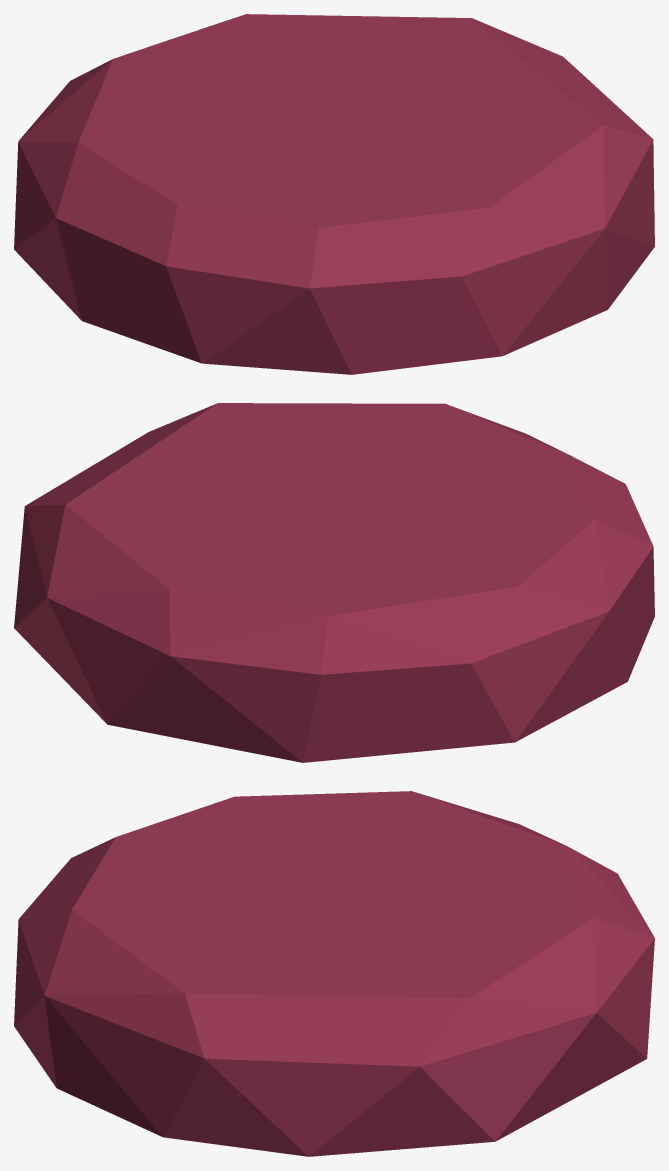
The model's file is Red_Button.fbx.
3 views of the same model, one above another, from view 1: azimuth 30°, elevation 25°; view 2: azimuth 150°, elevation 25°; view 3: azimuth 270°, elevation 25° (orthographic).
Parts seen in each view (by area): view 1: Button; view 2: Button; view 3: Button.
Boxes of the visible parts, x1,y1,x2,y2 form: Button: (14,14,654,374); Button: (14,403,654,762); Button: (14,791,654,1156).
Bounding box in the file's own units: 571 × 123 × 574.
